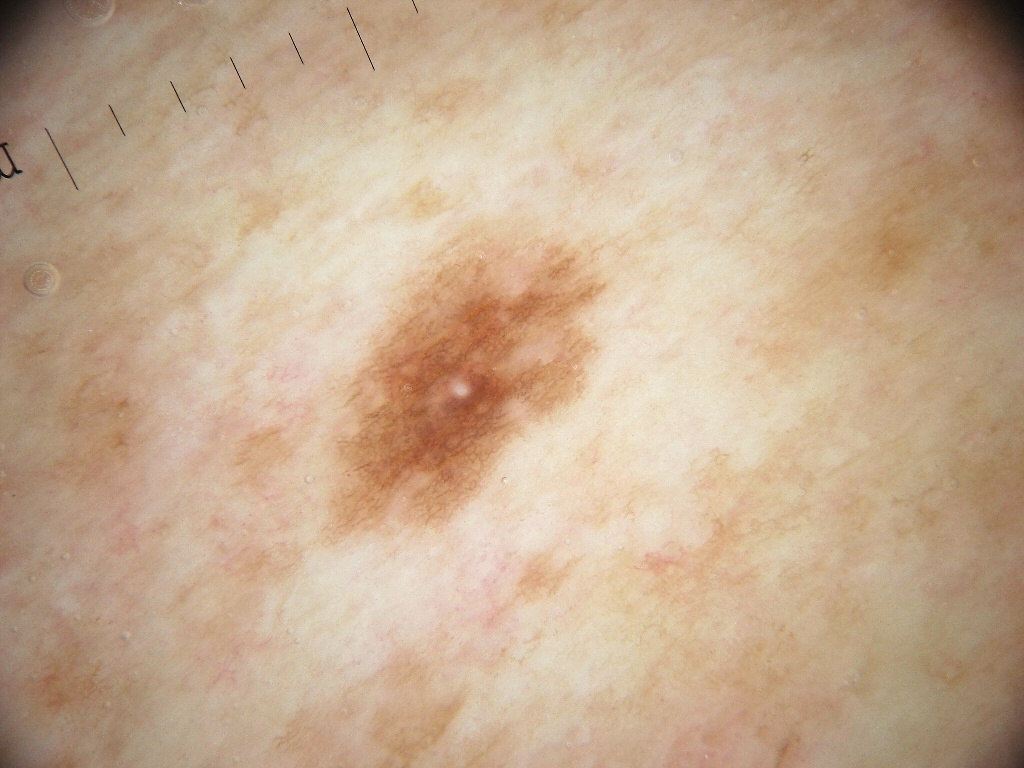Detected Lesion: (310, 229, 607, 540)
